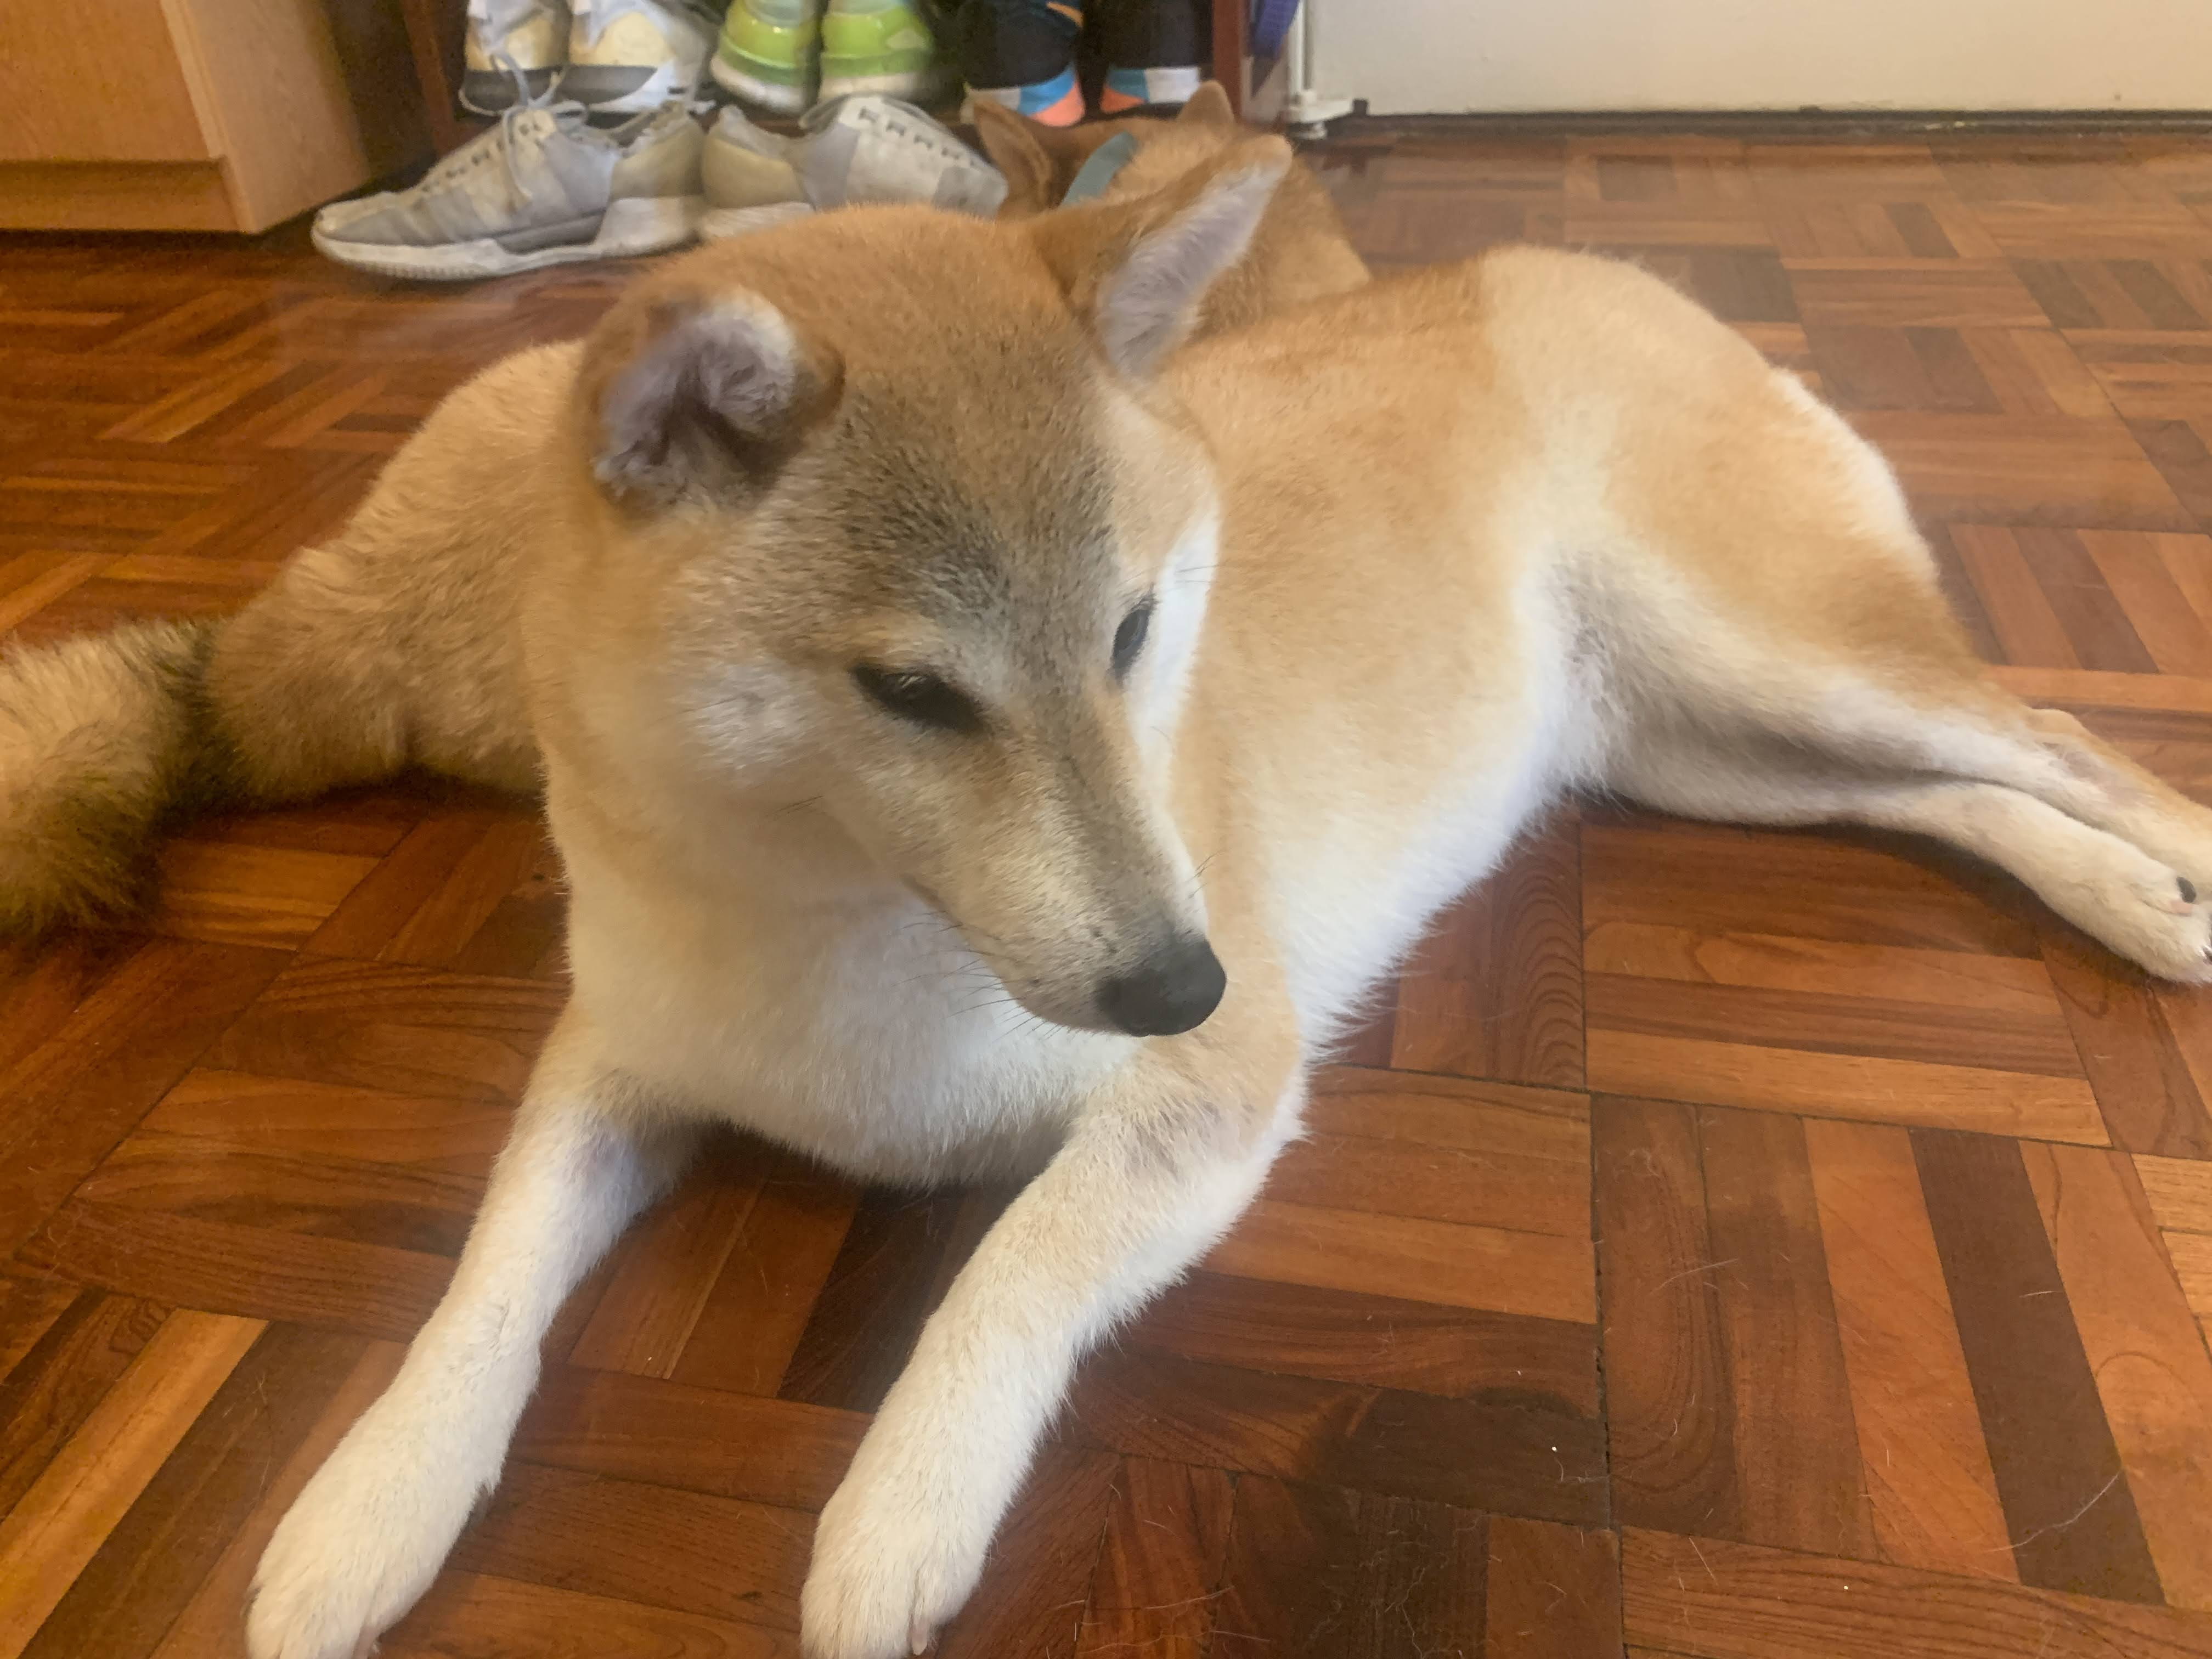Get down: (277, 85, 2212, 1659)
